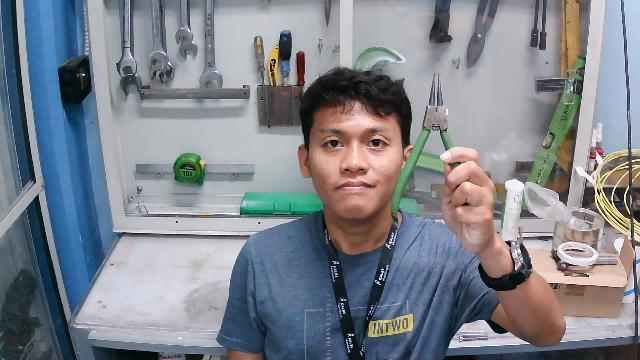tang_cucut_lancip_2: (389, 69, 471, 225)
